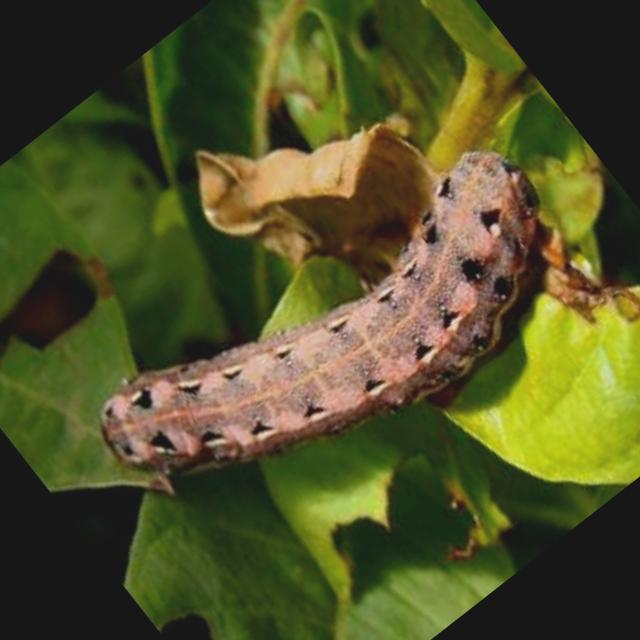Tobacco cutworm: (59, 88, 622, 604)
